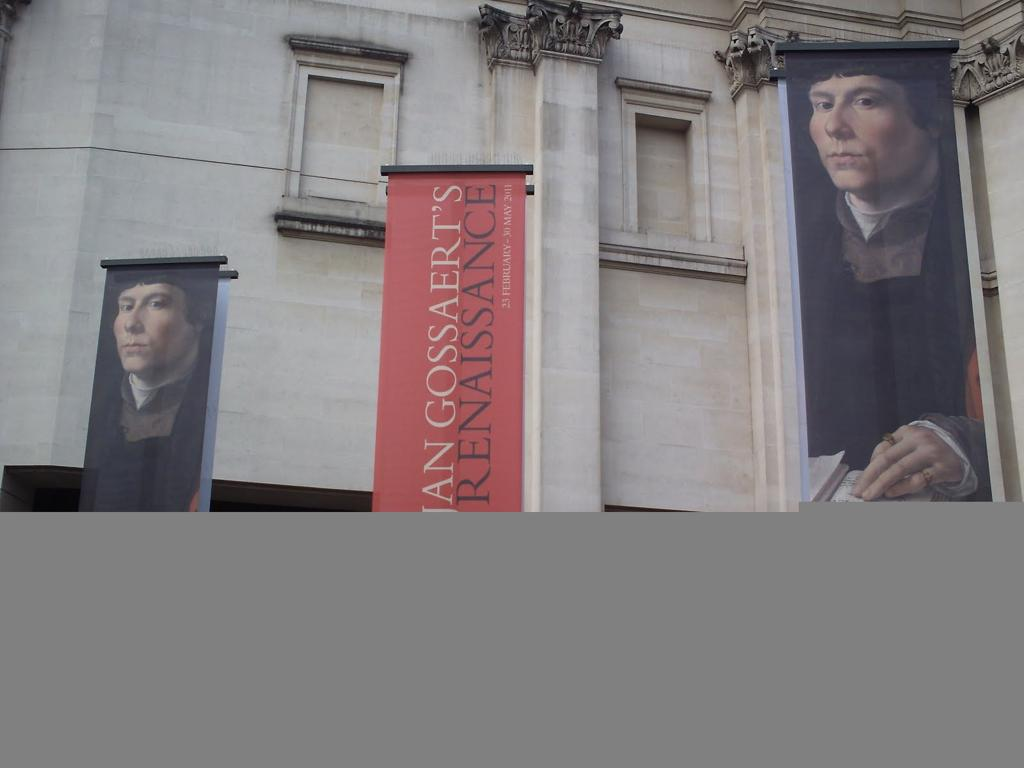face: (808, 78, 920, 192), (116, 282, 188, 374)
